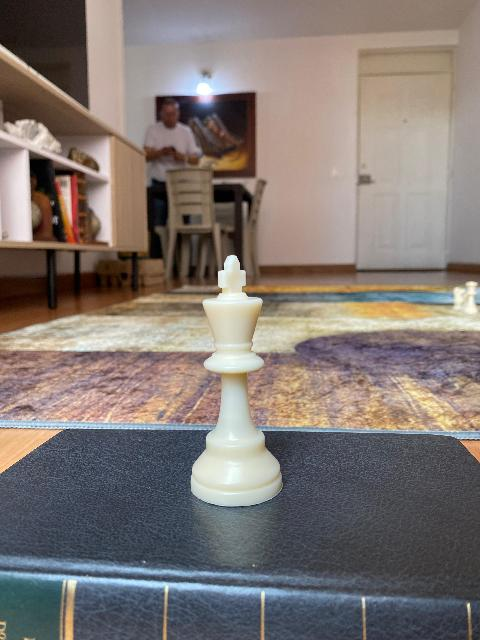white-king: (190, 255, 284, 508)
